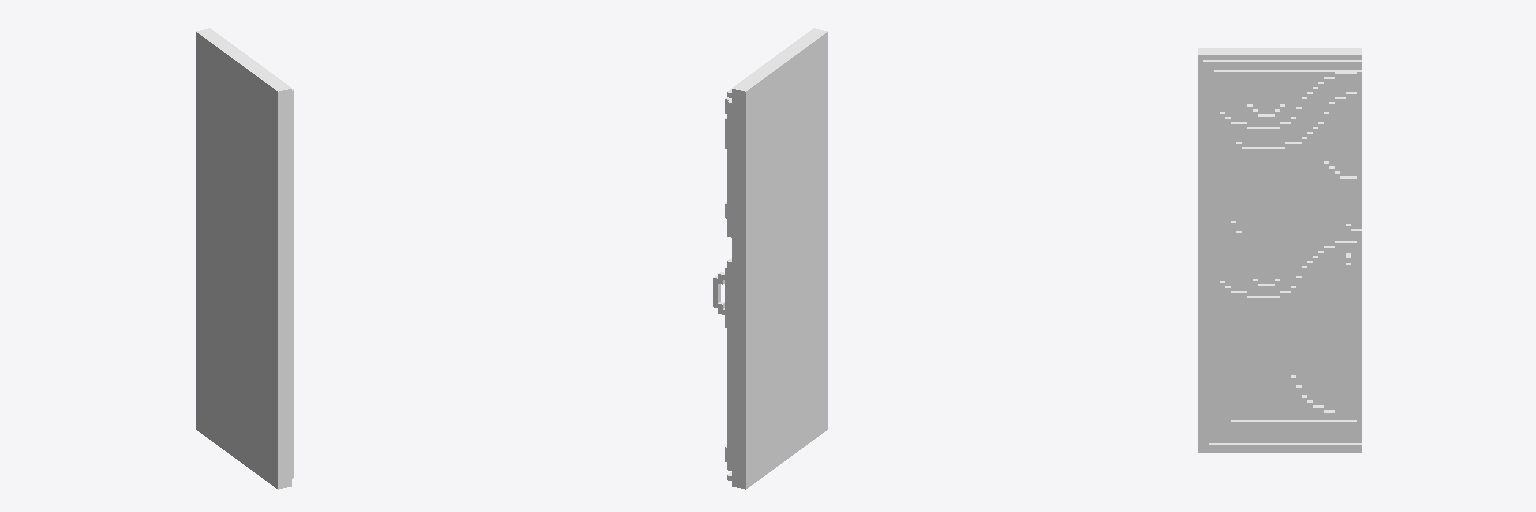
File: armoire_porte_gauche.obj
The picture shows the model from 3 angles: view 1: azimuth 30°, elevation 25°; view 2: azimuth 150°, elevation 25°; view 3: azimuth 270°, elevation 25°; orthographic projection.
Bounding box in the file's own units: 8 × 80 × 30.